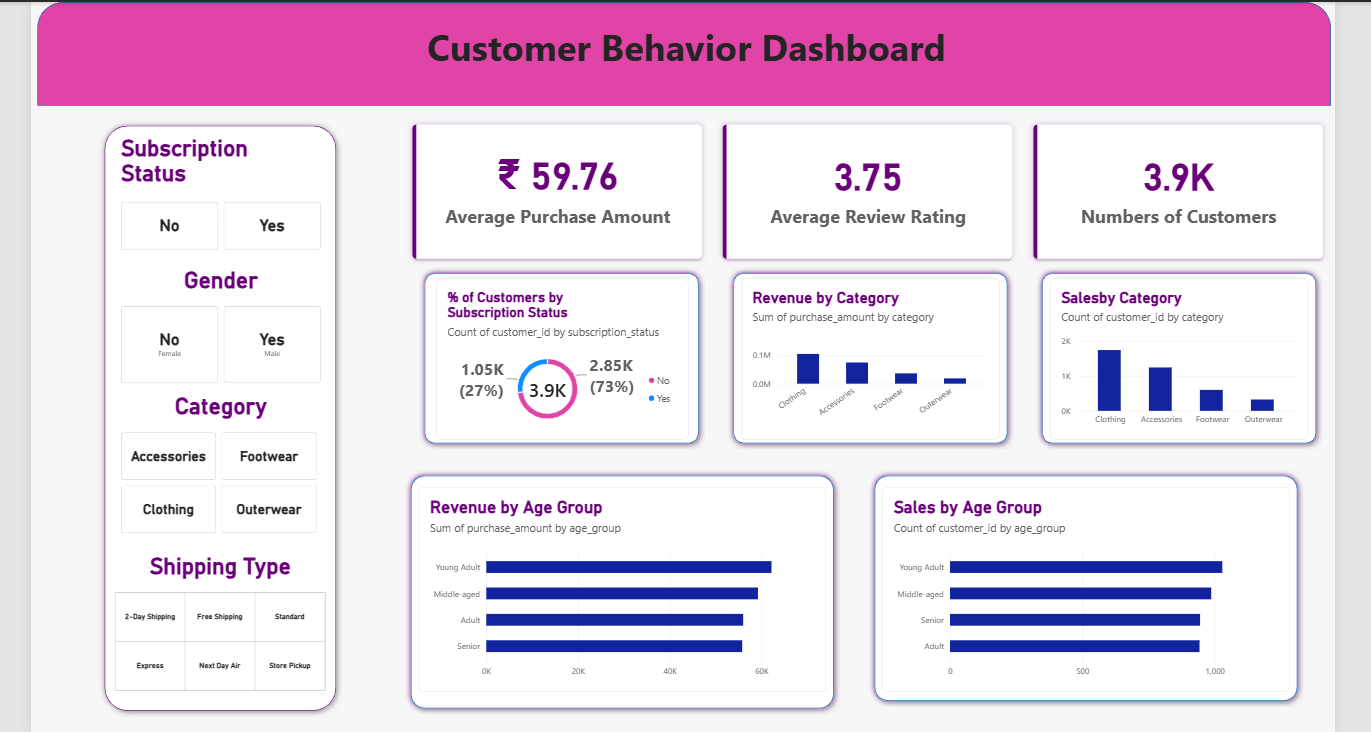

The page's visual inventory and layout, read from the dashboard file:
{"tool":"powerbi","page":{"name":"Page 1","canvas":[1920,1080],"ordinal":0},"visuals":[{"type":"shape","box":[550.3,688.3,640.5,360.7],"z":0},{"type":"cardVisual","fields":{"Data":["public customer.Average Purchase Amount","public customer.Average Review Rating","public customer.Numbers of Customers"]},"box":[550.3,169.3,1363.8,220.9],"z":1000},{"type":"shape","box":[9.2,0,1904.9,152.8],"z":2000},{"type":"textbox","box":[12.9,29.4,1904.9,143.6],"z":3000},{"type":"shape","box":[570.6,390.2,421.5,268.7],"z":4000},{"type":"donutChart","title":"% of Customers by Subscription Status","fields":{"Category":["public customer.subscription_status"],"Y":["CountNonNull(public customer.customer_id)"]},"box":[596.3,406.8,371.8,237.4],"z":5000},{"type":"shape","box":[1025.2,390.2,421.5,268.7],"z":6000},{"type":"shape","box":[1479.8,390.2,421.5,268.7],"z":7000},{"type":"clusteredColumnChart","title":"Revenue by Category","fields":{"Category":["public customer.category"],"Y":["Sum(public customer.purchase_amount)"]},"box":[1045.4,406.8,381,237.4],"z":8000},{"type":"clusteredColumnChart","title":"Salesby Category","fields":{"Category":["public customer.category"],"Y":["CountNonNull(public customer.customer_id)"]},"box":[1500,406.8,381,237.4],"z":9000},{"type":"shape","box":[99.4,173,358.9,879.8],"z":10000},{"type":"advancedSlicerVisual","title":"Subscription Status","fields":{"Values":["public customer.subscription_status"]},"box":[132.5,195.1,294.5,171.2],"z":11000},{"type":"advancedSlicerVisual","title":"Gender","fields":{"Label":["Min(public customer.gender)"],"Values":["public customer.subscription_status"]},"box":[132.5,390.2,294.5,171.2],"z":12000},{"type":"advancedSlicerVisual","title":"Category","fields":{"Values":["public customer.category"]},"box":[132.5,576.1,294.5,222.7],"z":13000},{"type":"advancedSlicerVisual","title":"Shipping Type","fields":{"Values":["public customer.shipping_type"]},"box":[123.3,811.7,311,204.3],"z":14000},{"type":"clusteredBarChart","title":"Revenue by Age Group","fields":{"Category":["public customer.age_group"],"Y":["Sum(public customer.purchase_amount)"]},"box":[570.6,714.1,600,301.8],"z":15000},{"type":"shape","box":[1233.1,688.3,640.5,349.7],"z":15001},{"type":"clusteredBarChart","title":"Sales by Age Group","fields":{"Category":["public customer.age_group"],"Y":["CountNonNull(public customer.customer_id)"]},"box":[1253.4,714.1,600,301.8],"z":15002}]}

Visuals, with their boxes on the page's 1920x1080 design canvas (x1, y1, x2, y2). These are canvas units, not pixel positions in the 1371x732 screenshot, which may show the page scaled, cropped or inside an application window:
shape: (x1=550, y1=688, x2=1191, y2=1049)
cardVisual - public customer.Average Purchase Amount x public customer.Average Review Rating: (x1=550, y1=169, x2=1914, y2=390)
shape: (x1=9, y1=0, x2=1914, y2=153)
textbox: (x1=13, y1=29, x2=1918, y2=173)
shape: (x1=571, y1=390, x2=992, y2=659)
"% of Customers by Subscription Status" donutChart: (x1=596, y1=407, x2=968, y2=644)
shape: (x1=1025, y1=390, x2=1447, y2=659)
shape: (x1=1480, y1=390, x2=1901, y2=659)
"Revenue by Category" clusteredColumnChart: (x1=1045, y1=407, x2=1426, y2=644)
"Salesby Category" clusteredColumnChart: (x1=1500, y1=407, x2=1881, y2=644)
shape: (x1=99, y1=173, x2=458, y2=1053)
"Subscription Status" advancedSlicerVisual: (x1=132, y1=195, x2=427, y2=366)
"Gender" advancedSlicerVisual: (x1=132, y1=390, x2=427, y2=561)
"Category" advancedSlicerVisual: (x1=132, y1=576, x2=427, y2=799)
"Shipping Type" advancedSlicerVisual: (x1=123, y1=812, x2=434, y2=1016)
"Revenue by Age Group" clusteredBarChart: (x1=571, y1=714, x2=1171, y2=1016)
shape: (x1=1233, y1=688, x2=1874, y2=1038)
"Sales by Age Group" clusteredBarChart: (x1=1253, y1=714, x2=1853, y2=1016)
